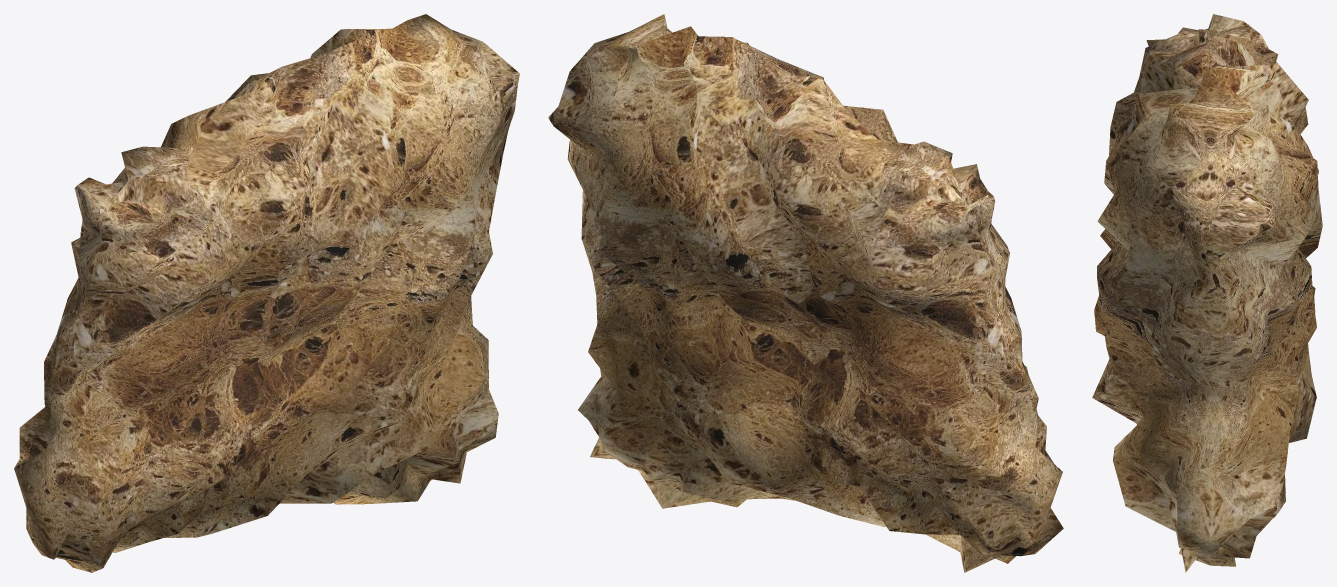
The model's file is Pumice.fbx.
The picture shows the model from 3 angles, left to right: view 1: azimuth 30°, elevation 25°; view 2: azimuth 150°, elevation 25°; view 3: azimuth 270°, elevation 25°; orthographic projection. The views are drawn at different scales.
Visible parts, largest first — view 1: Pumice; view 2: Pumice; view 3: Pumice.
Boxes of the visible parts, <box> form: Pumice: <box>14,14,519,572</box>; Pumice: <box>548,14,1063,572</box>; Pumice: <box>1092,14,1322,572</box>.
Size of the model in its own units: 424 by 396 by 169.
